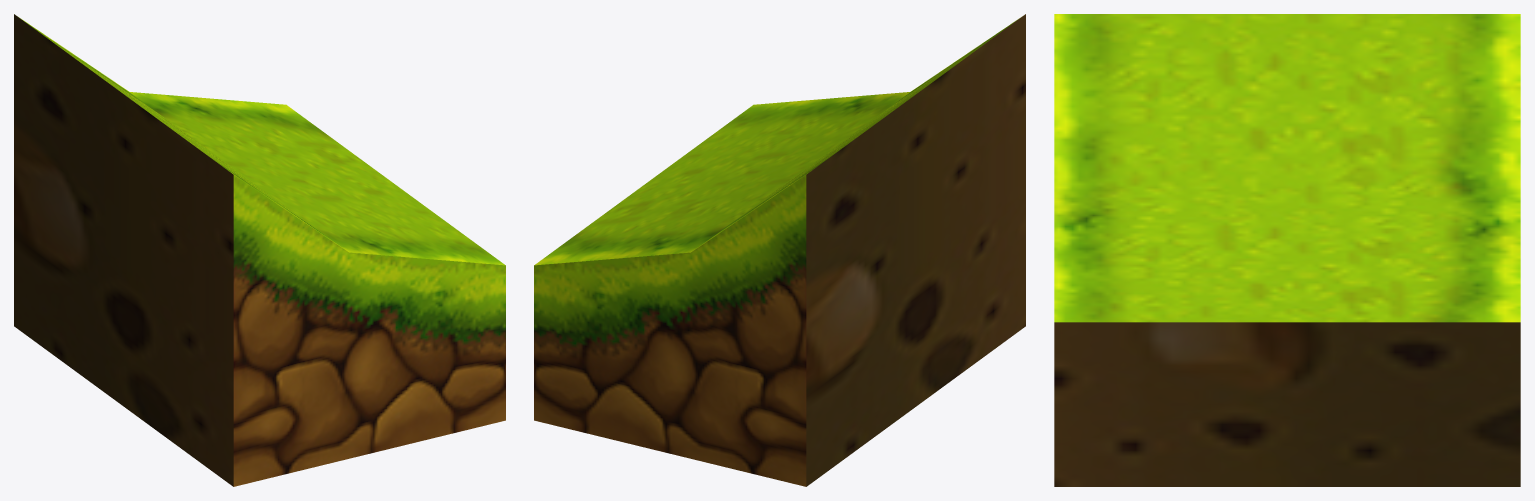
Rendered from Road_6.fbx.
3 renders of one model, left to right at view 1: azimuth 30°, elevation 25°; view 2: azimuth 150°, elevation 25°; view 3: azimuth 270°, elevation 25°, orthographic. The views are drawn at different scales.
Visible parts, largest first — view 1: Road_6; view 2: Road_6; view 3: Road_6.
Part boxes in pixels (x1,y1,x2,y2): Road_6: [14, 14, 505, 486]; Road_6: [534, 14, 1025, 486]; Road_6: [1054, 14, 1520, 486].
Size of the model in its own units: 3.05 by 3.34 by 4.26.
Materials: 1 (1 with a texture image).
